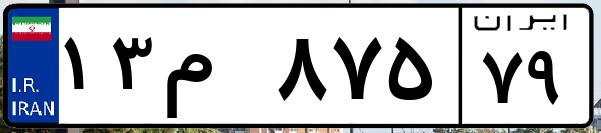1: (57, 26, 110, 100)
3: (110, 28, 158, 98)
5: (385, 28, 445, 110)
7: (330, 28, 385, 110), (475, 38, 525, 113)
8: (270, 28, 330, 110)
9: (525, 38, 570, 115)
م: (158, 20, 270, 120)
